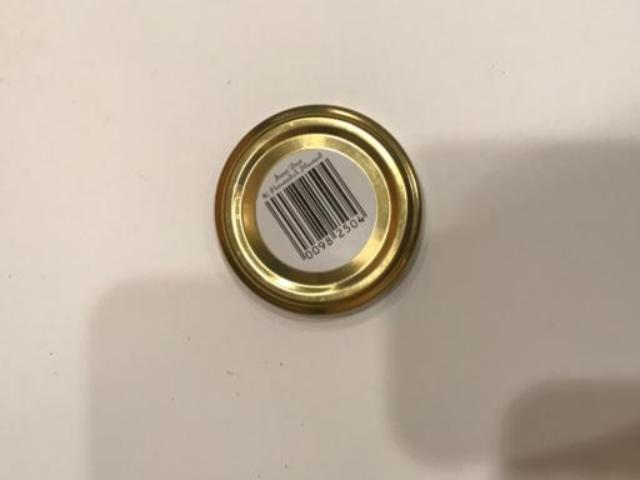metal: (214, 104, 419, 311)
